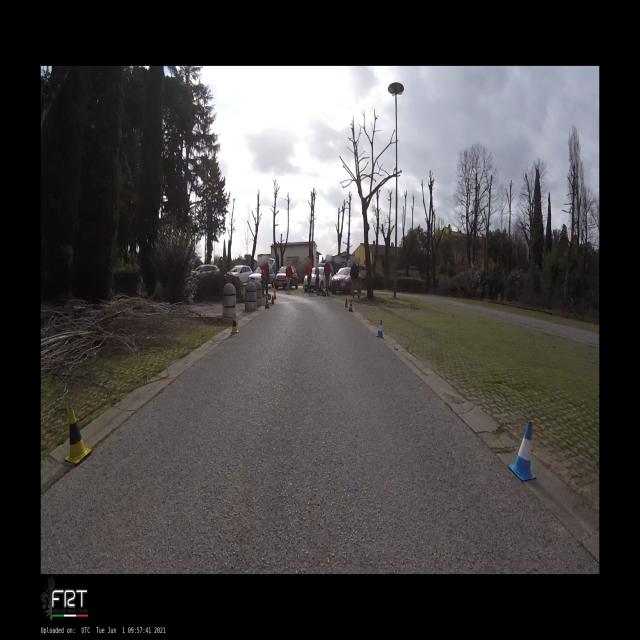blue_cone: (509, 422, 536, 481), (375, 319, 384, 338)
large_orange_cone: (348, 300, 353, 312), (265, 296, 269, 308), (274, 286, 276, 298)
unknown_cone: (344, 298, 348, 307), (272, 296, 274, 304)
yellow_cone: (64, 406, 92, 464), (230, 315, 238, 333)
